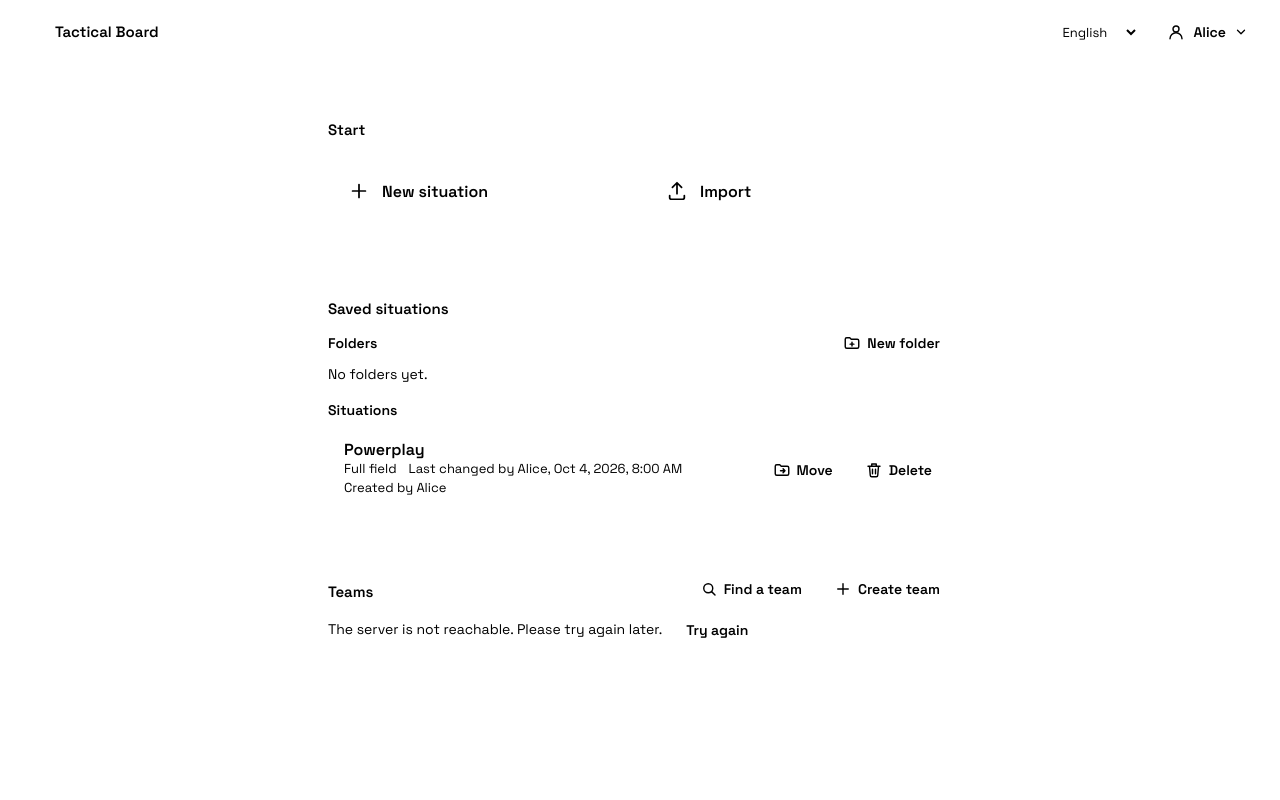
Test: start page › saved situations › says when a situation can't be opened and reloads the list
The image size is (1280, 800).
Step 1. Click the button "Powerplay" → x=384, y=450, box [344, 439, 752, 460]
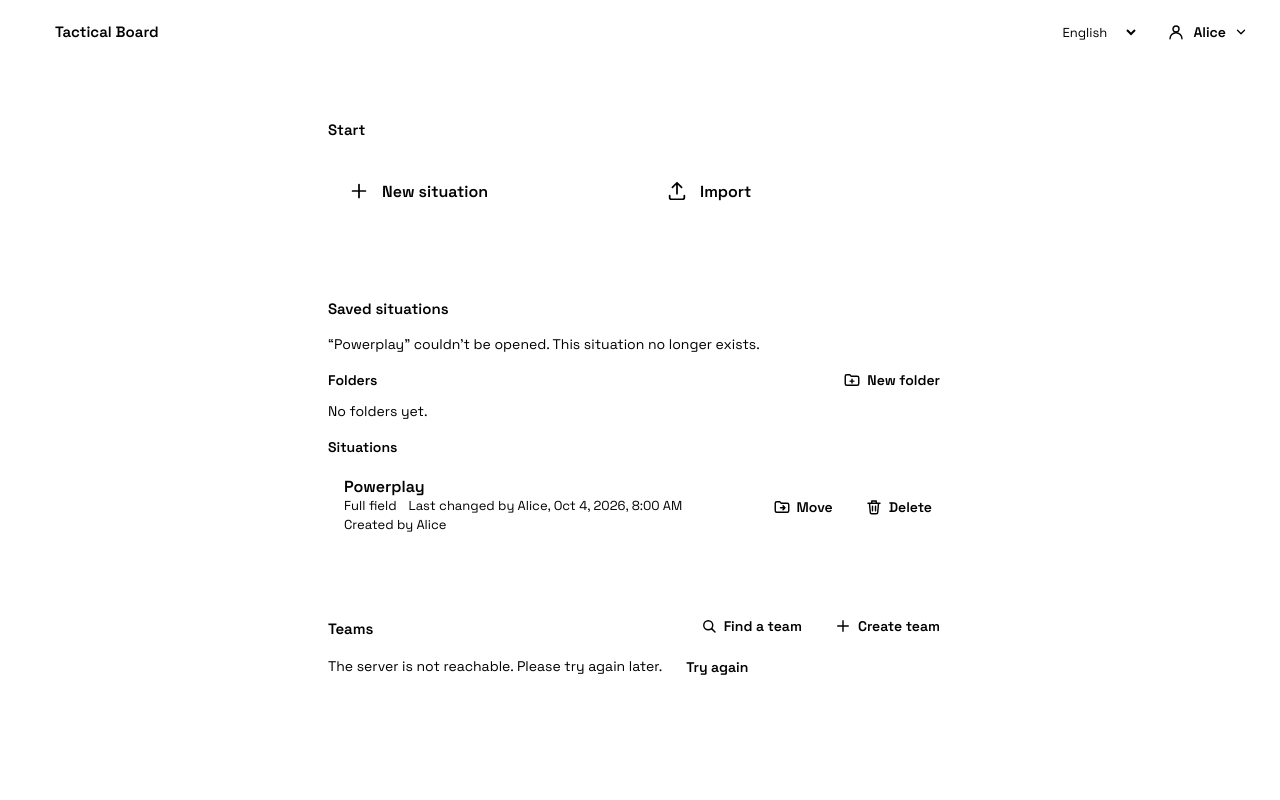
Now the message "“Powerplay” couldn't be opened. This situation no longer exists." is shown, box [328, 335, 760, 353]
